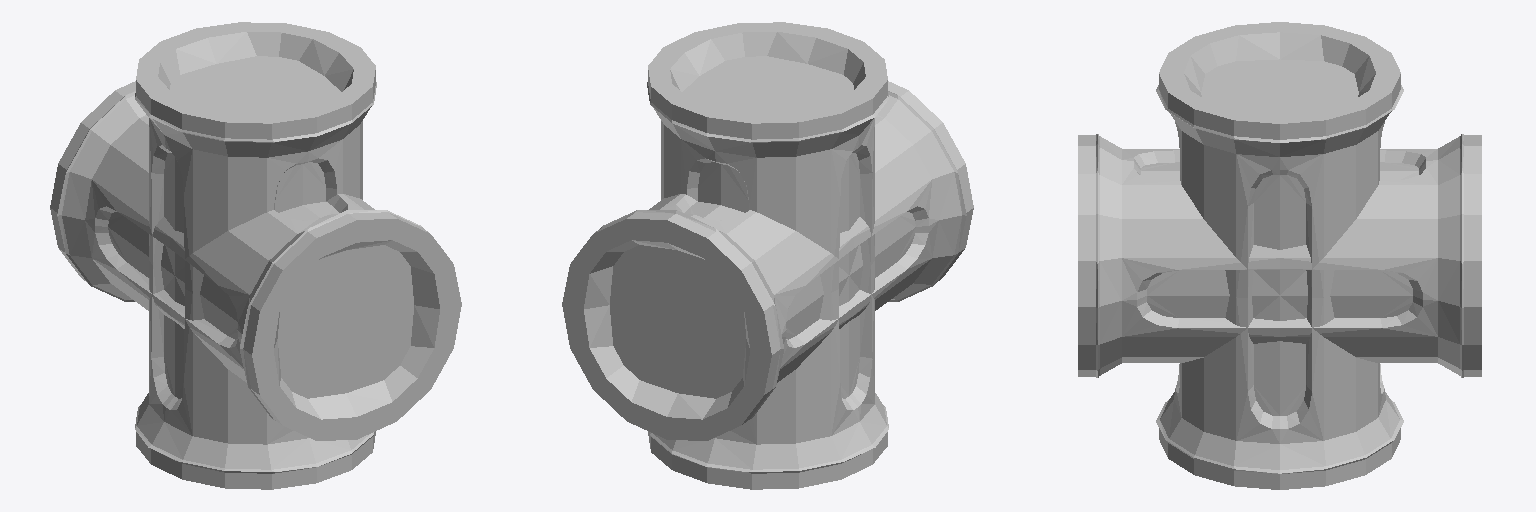
Rendered from Pipe_4way.obj.
3 views of the same model, side by side, from view 1: azimuth 30°, elevation 25°; view 2: azimuth 150°, elevation 25°; view 3: azimuth 270°, elevation 25° (orthographic).
Visible parts, largest first — view 1: Cylinder.001; view 2: Cylinder.001; view 3: Cylinder.001.
Part boxes in pixels (left/top/right/bottom): Cylinder.001: left=50, top=22, right=461, bottom=489; Cylinder.001: left=562, top=22, right=973, bottom=489; Cylinder.001: left=1078, top=22, right=1481, bottom=489.
Size of the model in its own units: 0.6156 by 1 by 1.